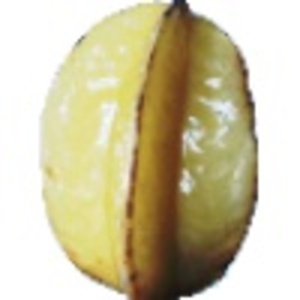carambola: (40, 1, 260, 300)
